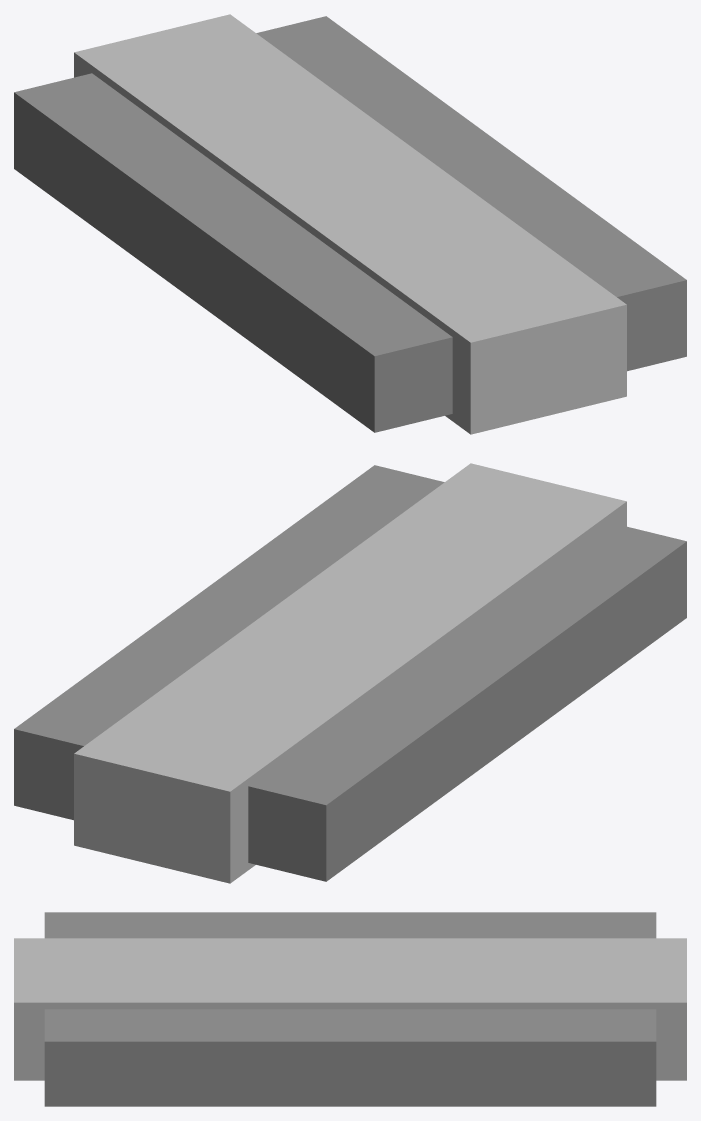
File: tombstone_03.fbx
3 views of the same model, one above another, from view 1: azimuth 30°, elevation 25°; view 2: azimuth 150°, elevation 25°; view 3: azimuth 270°, elevation 25° (orthographic). The views are drawn at different scales.
Parts seen in each view (by area): view 1: tombstone_03; view 2: tombstone_03; view 3: tombstone_03.
Boxes of the visible parts, x1,y1,x2,y2 form: tombstone_03: (14,14,686,434); tombstone_03: (14,463,686,883); tombstone_03: (14,912,686,1106).
Size of the model in its own units: 0.96 by 0.27 by 2.11.
